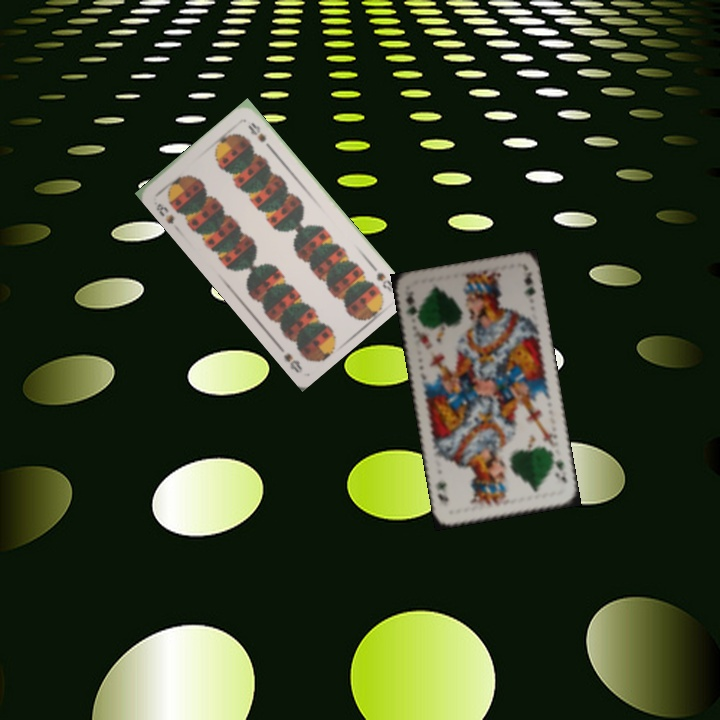GK: (401, 287, 422, 325), (548, 452, 569, 486)
S8: (366, 259, 397, 295), (152, 199, 177, 227)
